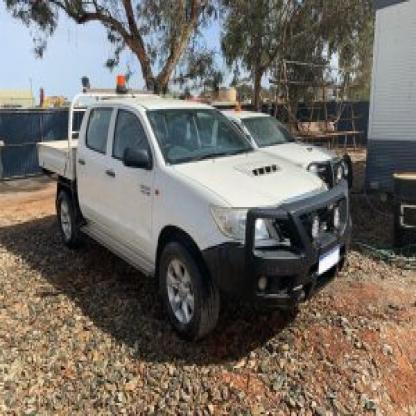light_vehicle: (30, 76, 350, 346)
